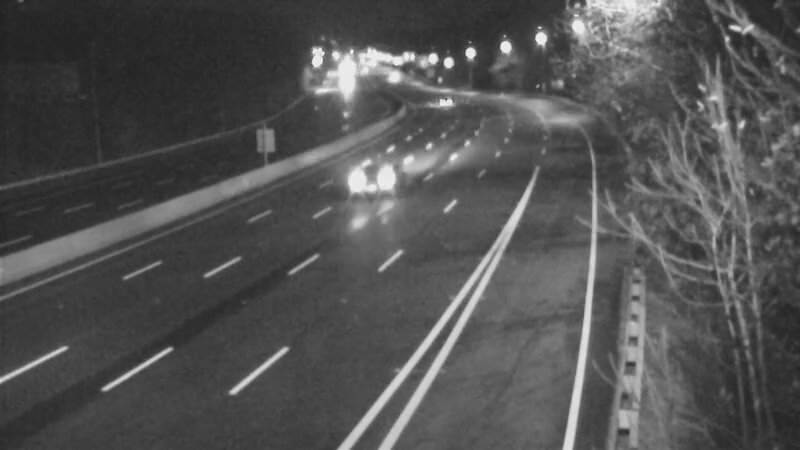vehicle: (333, 136, 413, 216), (369, 53, 419, 103), (415, 77, 465, 127)
